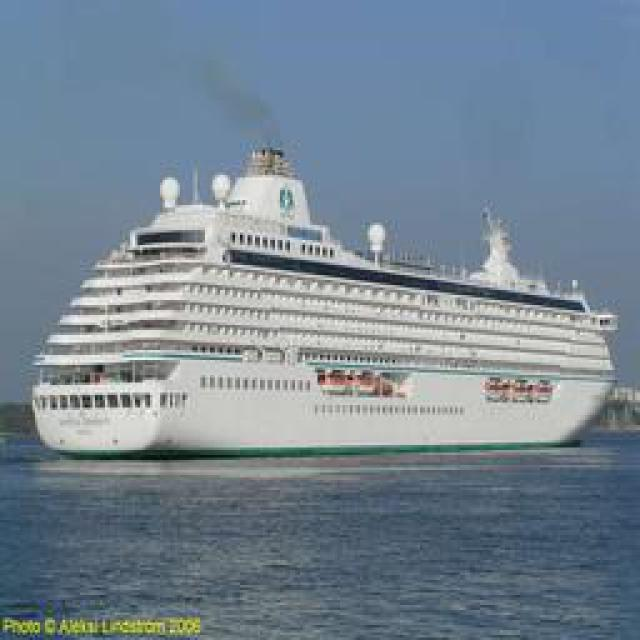Ship: (30, 161, 620, 456)
